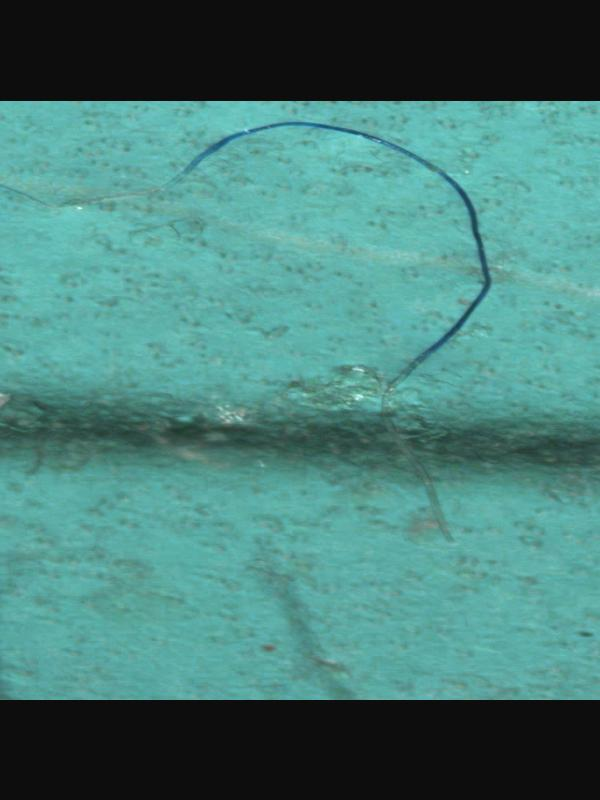microplastic: (0, 120, 498, 542)
